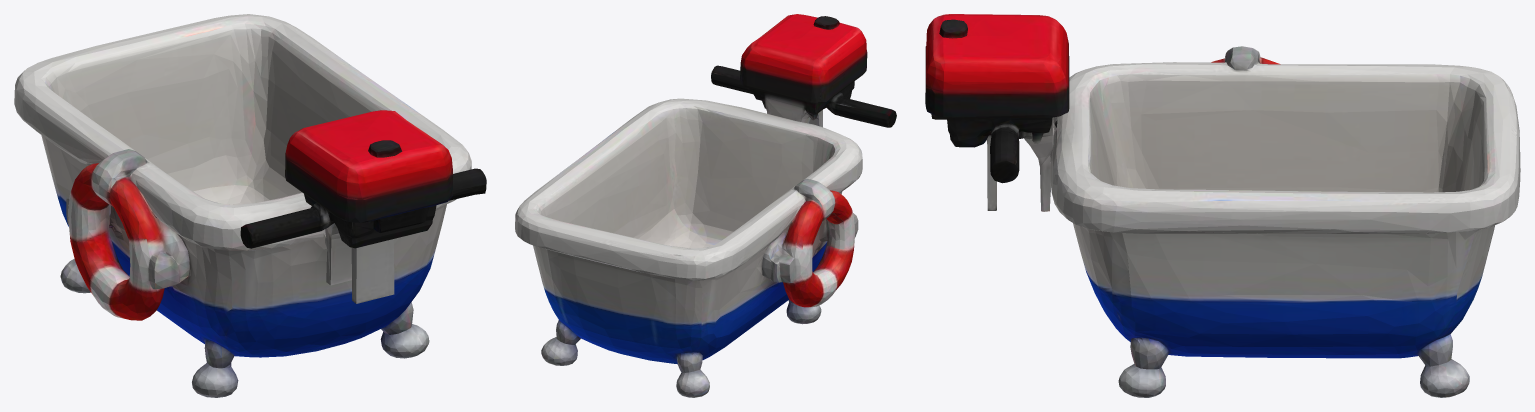
File: cs_v_vasca.glb
3 views of the same model, side by side, from view 1: azimuth 30°, elevation 25°; view 2: azimuth 150°, elevation 25°; view 3: azimuth 270°, elevation 25° (orthographic). The views are drawn at different scales.
Visible parts, largest first — view 1: v_vasca; view 2: v_vasca; view 3: v_vasca.
Boxes of the visible parts, x1,y1,x2,y2 form: v_vasca: [14, 14, 486, 397]; v_vasca: [515, 14, 896, 397]; v_vasca: [925, 14, 1520, 397].
Bounding box in the file's own units: 1.66 × 1.57 × 2.7.
Materials: 1 (1 with a texture image).
